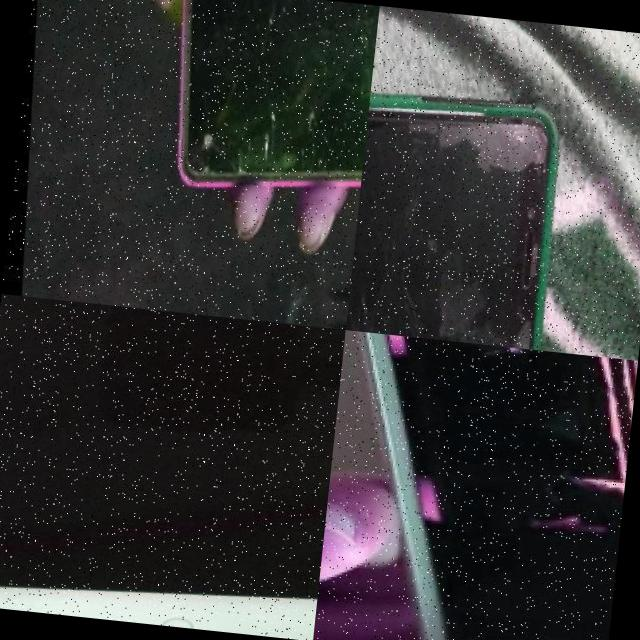screen crack: (306, 0, 379, 176), (160, 81, 248, 189), (490, 100, 559, 173), (244, 88, 284, 188)
